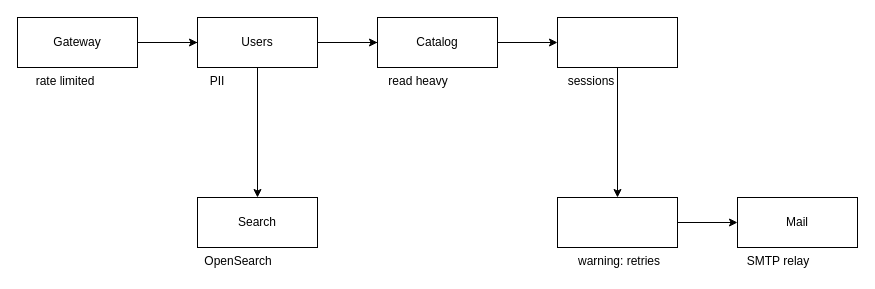
Some shapes in this 875 by 289 pixel diagram are drawn without their labels. The shapes that lost their labels are listed below. From the top down, each one's centre as x and y in pixels, then its label:
At (x=617, y=42): "Cart".
At (x=617, y=222): "Billing".
